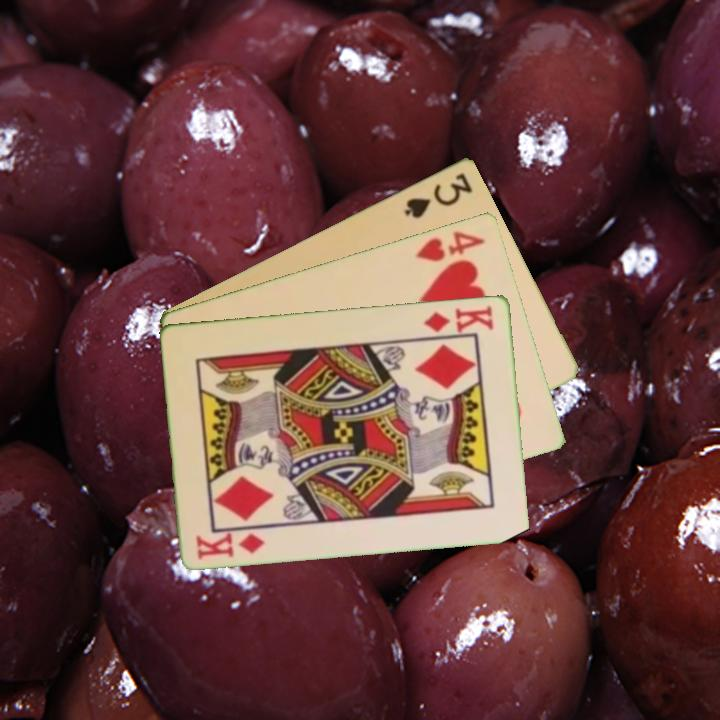3s: (401, 169, 476, 221)
4h: (412, 227, 489, 264)
Kd: (420, 301, 497, 335), (193, 528, 268, 562)
